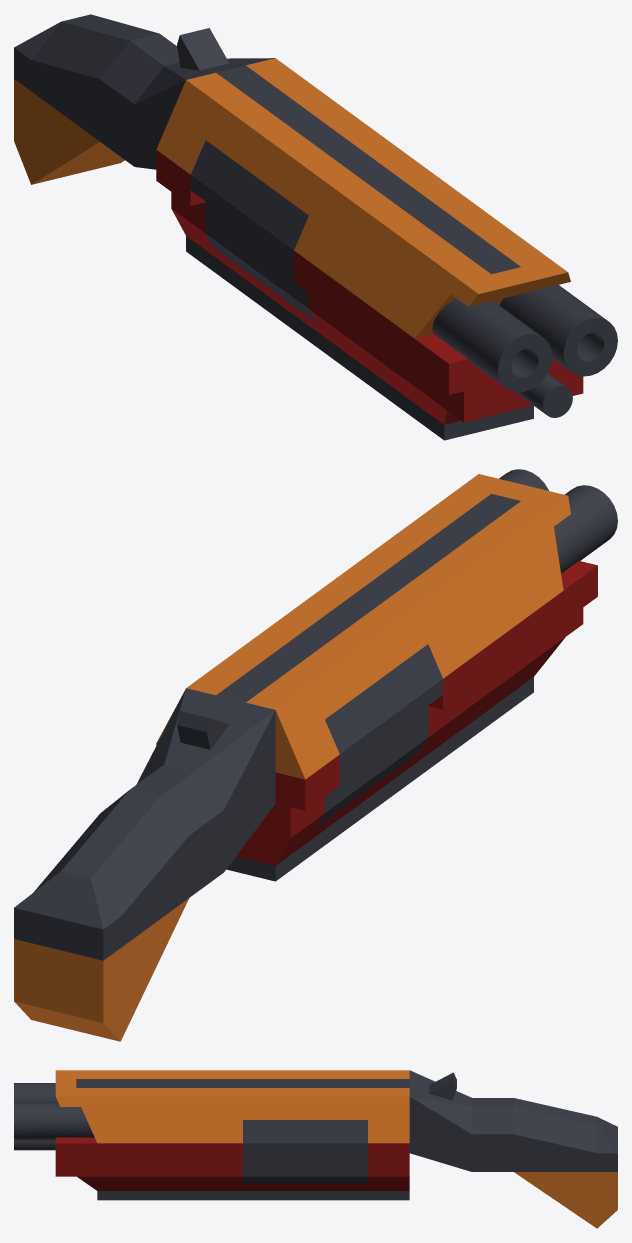
File: Shotgun.fbx
3 renders of one model, top to bottom at view 1: azimuth 30°, elevation 25°; view 2: azimuth 150°, elevation 25°; view 3: azimuth 270°, elevation 25°, orthographic. The views are drawn at different scales.
Parts seen in each view (by area): view 1: largeBlaster_barrelDouble, largeBlaster_centerDetail, stock_solid; view 2: largeBlaster_centerDetail, stock_solid, largeBlaster_barrelDouble; view 3: largeBlaster_centerDetail, largeBlaster_barrelDouble, stock_solid.
Boxes of the visible parts, <box> form: largeBlaster_barrelDouble: <box>328,184,617,440</box>; largeBlaster_centerDetail: <box>156,58,447,376</box>; stock_solid: <box>14,14,274,184</box>; largeBlaster_centerDetail: <box>156,562,477,881</box>; stock_solid: <box>14,688,275,1041</box>; largeBlaster_barrelDouble: <box>358,469,617,755</box>; largeBlaster_centerDetail: <box>201,1070,409,1200</box>; largeBlaster_barrelDouble: <box>14,1070,201,1200</box>; stock_solid: <box>409,1070,617,1228</box>.
Bounding box in the file's own units: 5 × 7.35 × 29.
